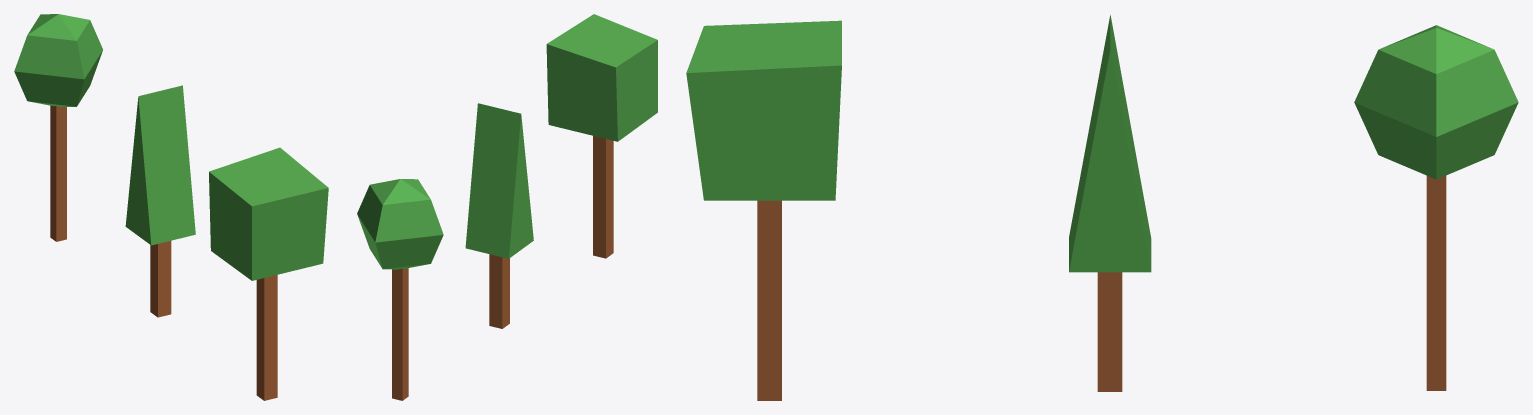
File: trees.fbx
The picture shows the model from 3 angles, left to right: view 1: azimuth 30°, elevation 25°; view 2: azimuth 150°, elevation 25°; view 3: azimuth 270°, elevation 25°; orthographic projection. The views are drawn at different scales.
Parts seen in each view (by area): view 1: Cube.001, Cube.003, Sphere, Cube, Cube.004, Cube.002; view 2: Cube.001, Cube.003, Sphere, Cube, Cube.004, Cube.002; view 3: Cube.001, Sphere, Cube.003, Cube, Cube.004, Cube.002.
Part boxes in pixels (bbox=[...]): Cube.001: bbox=[209, 147, 328, 280]; Cube.003: bbox=[125, 85, 195, 245]; Sphere: bbox=[14, 14, 102, 106]; Cube: bbox=[256, 275, 277, 400]; Cube.004: bbox=[50, 105, 66, 241]; Cube.002: bbox=[150, 241, 171, 317]; Cube.001: bbox=[546, 14, 657, 141]; Cube.003: bbox=[465, 103, 533, 258]; Sphere: bbox=[357, 179, 443, 269]; Cube: bbox=[593, 136, 613, 258]; Cube.004: bbox=[392, 268, 408, 400]; Cube.002: bbox=[489, 254, 509, 328]; Cube.001: bbox=[686, 20, 841, 200]; Sphere: bbox=[1354, 25, 1518, 179]; Cube.003: bbox=[1069, 14, 1151, 272]; Cube: bbox=[757, 200, 781, 400]; Cube.004: bbox=[1426, 176, 1446, 390]; Cube.002: bbox=[1097, 272, 1122, 391].
Bounding box in the file's own units: 200 × 494 × 1012.
